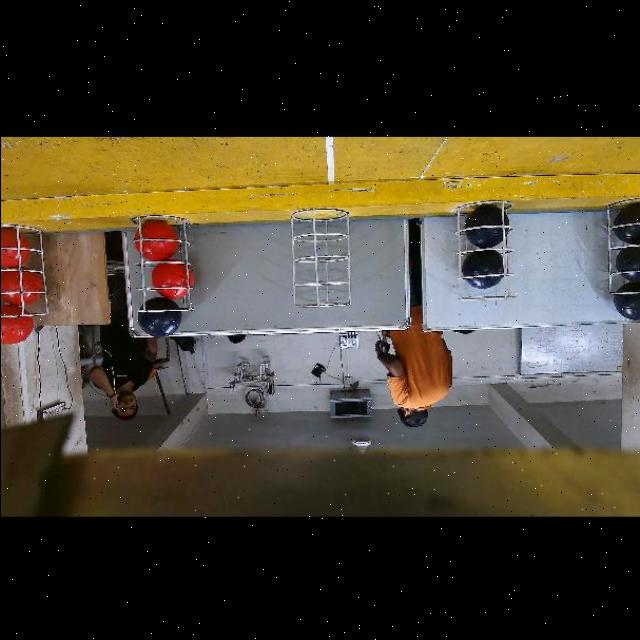P: (137, 297, 182, 338), (466, 206, 508, 247), (462, 250, 504, 288), (614, 241, 640, 283), (616, 201, 640, 241), (617, 283, 640, 322)
R: (133, 220, 177, 261), (151, 259, 192, 299), (0, 267, 42, 305), (0, 305, 32, 344), (0, 228, 28, 269)
S: (122, 209, 192, 315), (289, 199, 356, 307), (452, 207, 520, 303), (0, 228, 48, 322), (606, 197, 640, 297)
